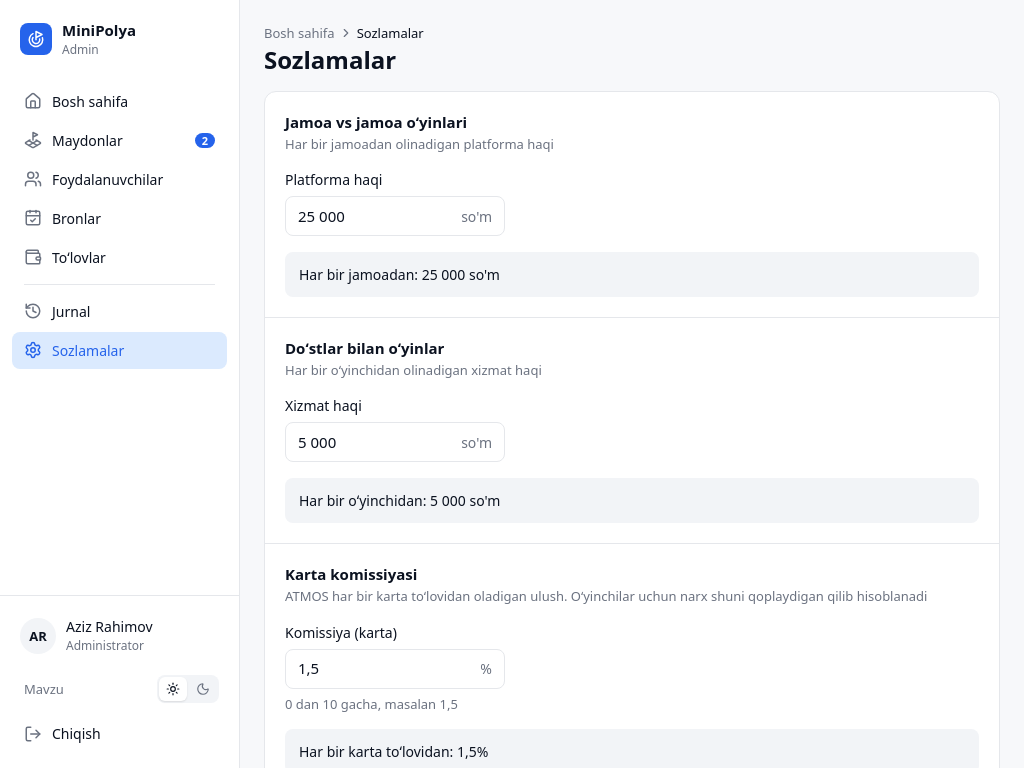
Sozlamalar › asks for a value before saving an emptied field
Clear the field labelled "Xizmat haqi" at (376, 442), box [298,432,453,453]
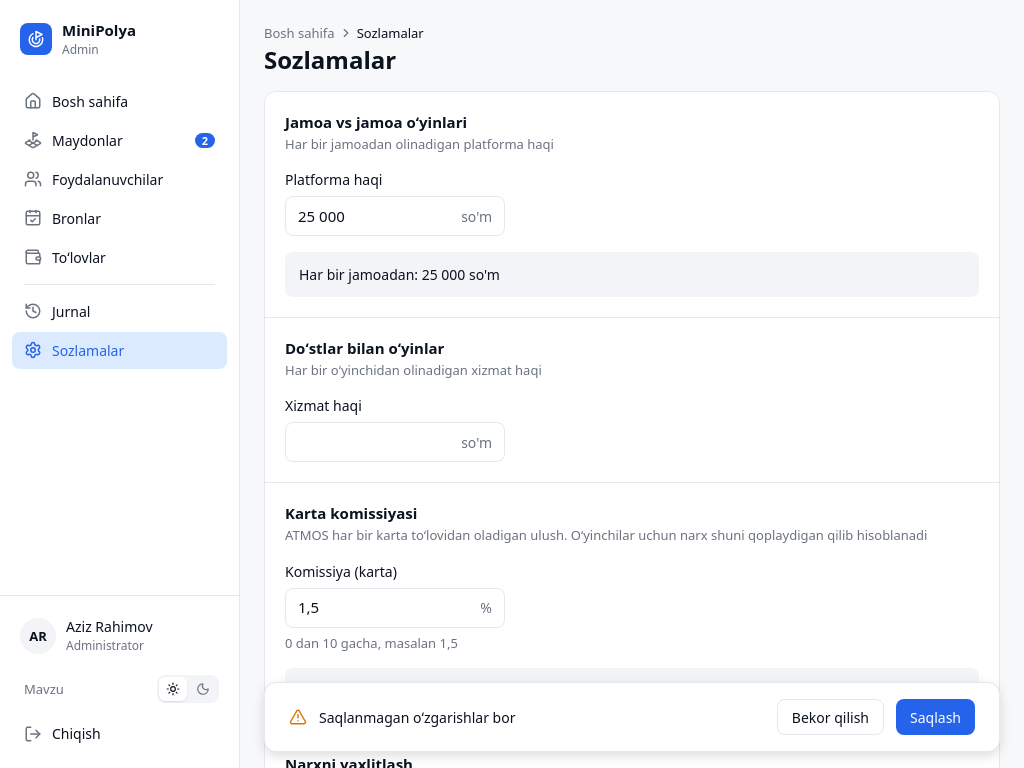
Click the button "Saqlash".
click(936, 717)  # box [896,699,975,735]
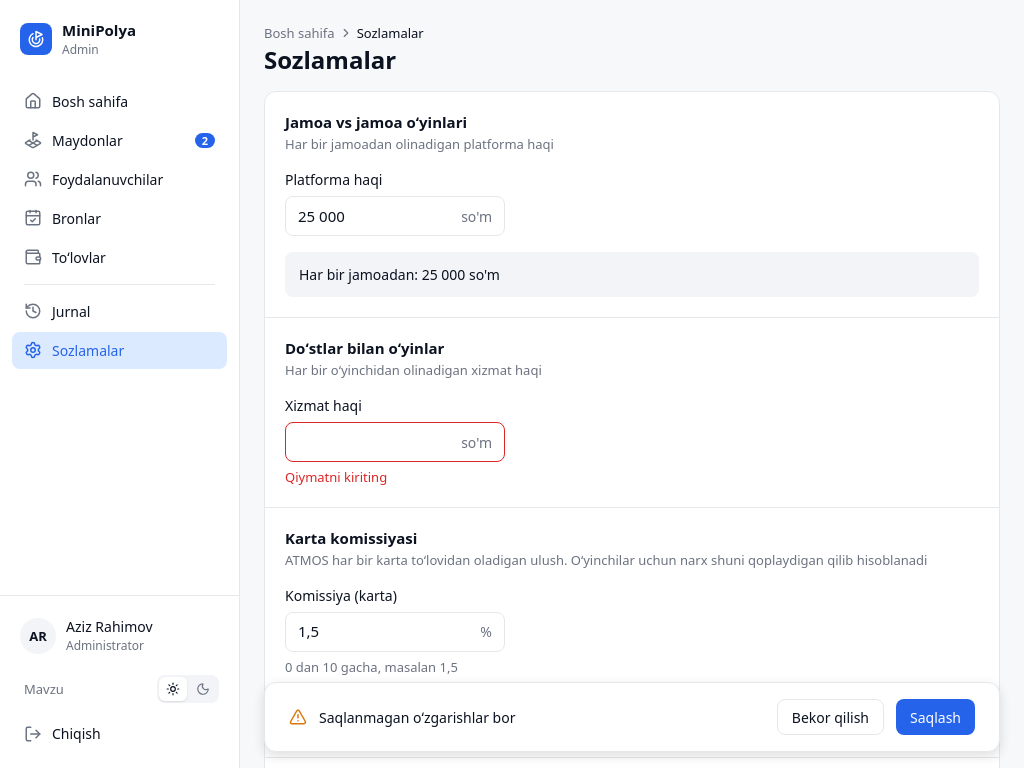
Expected: the text "Qiymatni kiriting" is shown, [285,468,387,486]
